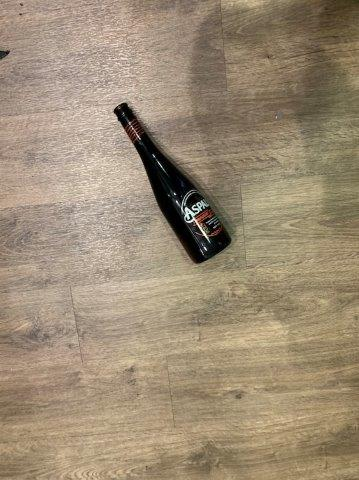botolkaca: (112, 103, 232, 264)
